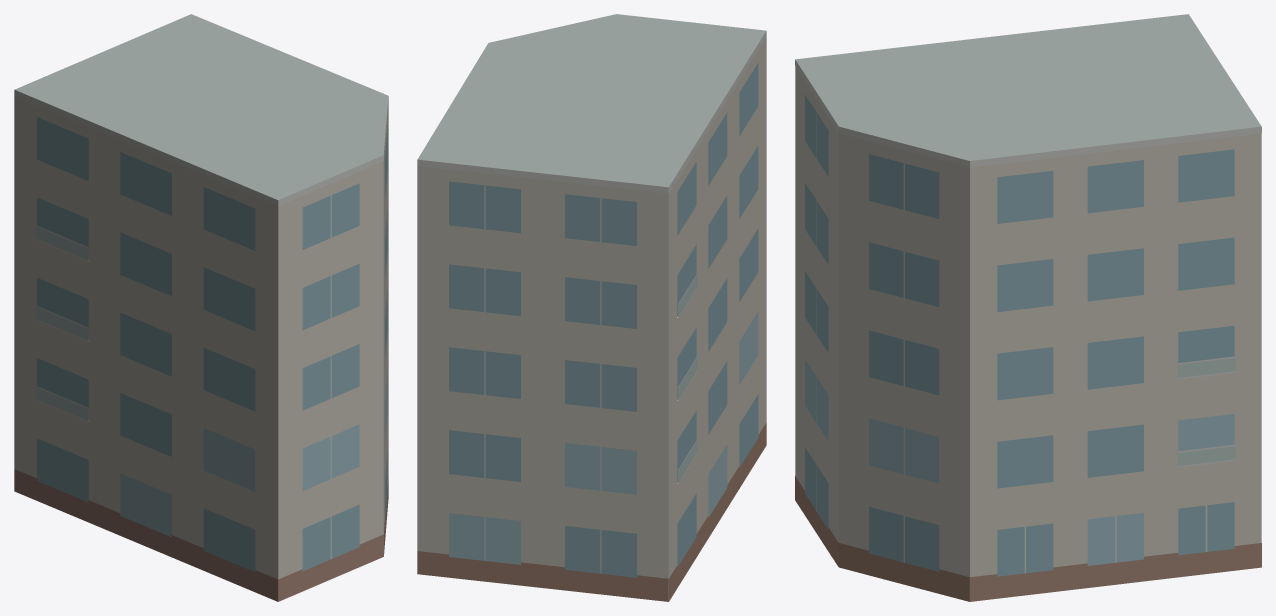
Rendered from survey-upis-33022992.glb.
3 renders of one model, left to right at view 1: azimuth 30°, elevation 25°; view 2: azimuth 150°, elevation 25°; view 3: azimuth 270°, elevation 25°, orthographic. The views are drawn at different scales.
Visible parts, largest first — view 1: survey-upis-33022992.tmp; view 2: survey-upis-33022992.tmp; view 3: survey-upis-33022992.tmp.
Boxes of the visible parts, x1,y1,x2,y2 form: survey-upis-33022992.tmp: (14, 14, 388, 601); survey-upis-33022992.tmp: (417, 14, 766, 601); survey-upis-33022992.tmp: (795, 14, 1261, 601).
Size of the model in its own units: 11.63 by 16.25 by 15.6.
